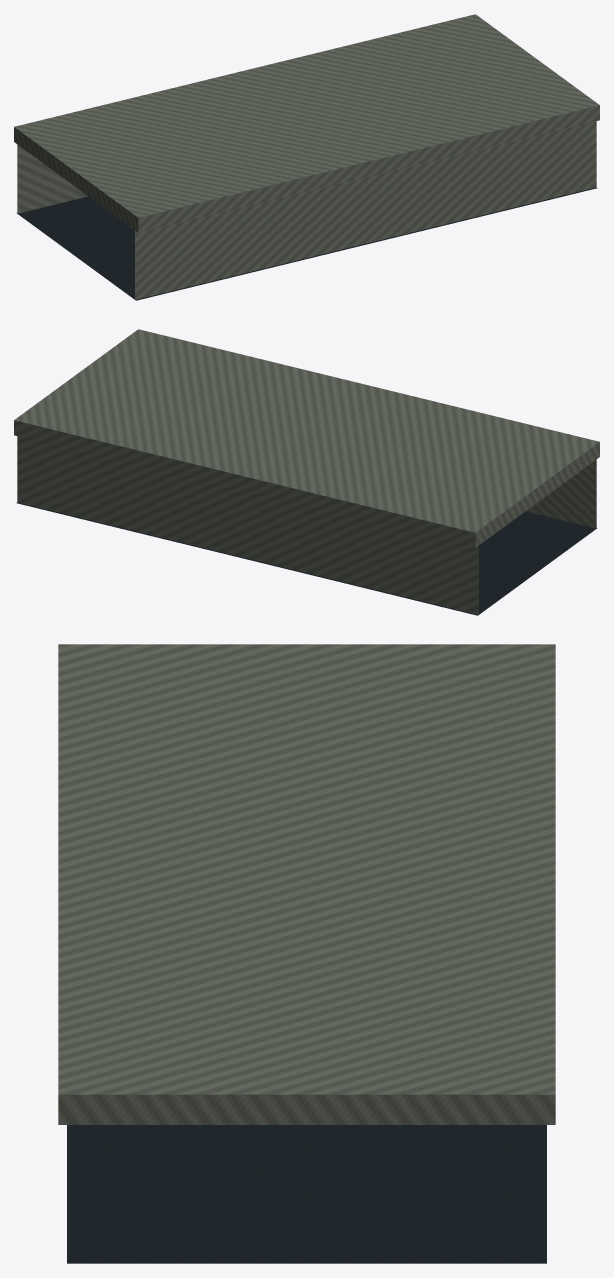
The model's file is underpass_box_culvert_32m_ShadowProxy.glb.
3 renders of one model, top to bottom at view 1: azimuth 30°, elevation 25°; view 2: azimuth 150°, elevation 25°; view 3: azimuth 270°, elevation 25°, orthographic. The views are drawn at different scales.
Parts seen in each view (by area): view 1: underpass_box_culvert_32m__roof_slab.003, underpass_box_culvert_32m__retaining_walls.003, underpass_box_culvert_32m__channel.003; view 2: underpass_box_culvert_32m__roof_slab.003, underpass_box_culvert_32m__retaining_walls.003, underpass_box_culvert_32m__channel.003; view 3: underpass_box_culvert_32m__roof_slab.003, underpass_box_culvert_32m__channel.003.
Boxes of the visible parts, x1=… form: underpass_box_culvert_32m__roof_slab.003: x1=14, y1=14, x2=599, y2=232; underpass_box_culvert_32m__retaining_walls.003: x1=17, y1=121, x2=596, y2=299; underpass_box_culvert_32m__channel.003: x1=16, y1=187, x2=597, y2=300; underpass_box_culvert_32m__roof_slab.003: x1=14, y1=329, x2=599, y2=547; underpass_box_culvert_32m__retaining_walls.003: x1=17, y1=436, x2=596, y2=614; underpass_box_culvert_32m__channel.003: x1=16, y1=502, x2=597, y2=615; underpass_box_culvert_32m__roof_slab.003: x1=58, y1=644, x2=555, y2=1124; underpass_box_culvert_32m__channel.003: x1=67, y1=1125, x2=546, y2=1263.
Size of the model in its own units: 32 by 5.6 by 14.93.
3 materials, 3 textured.
